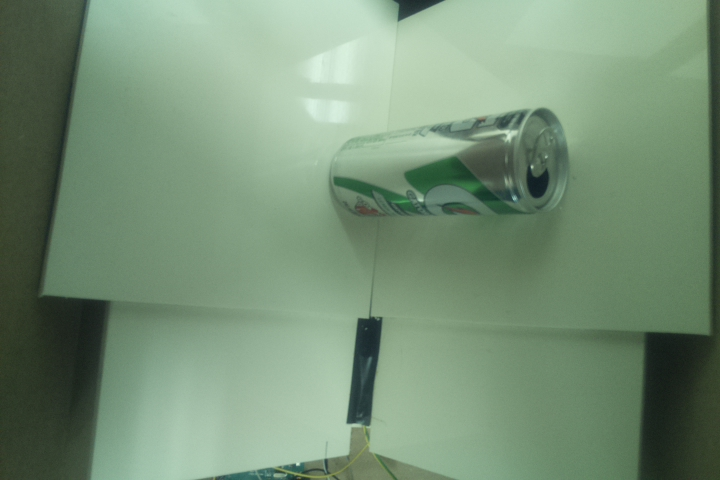can: (324, 105, 573, 221)
